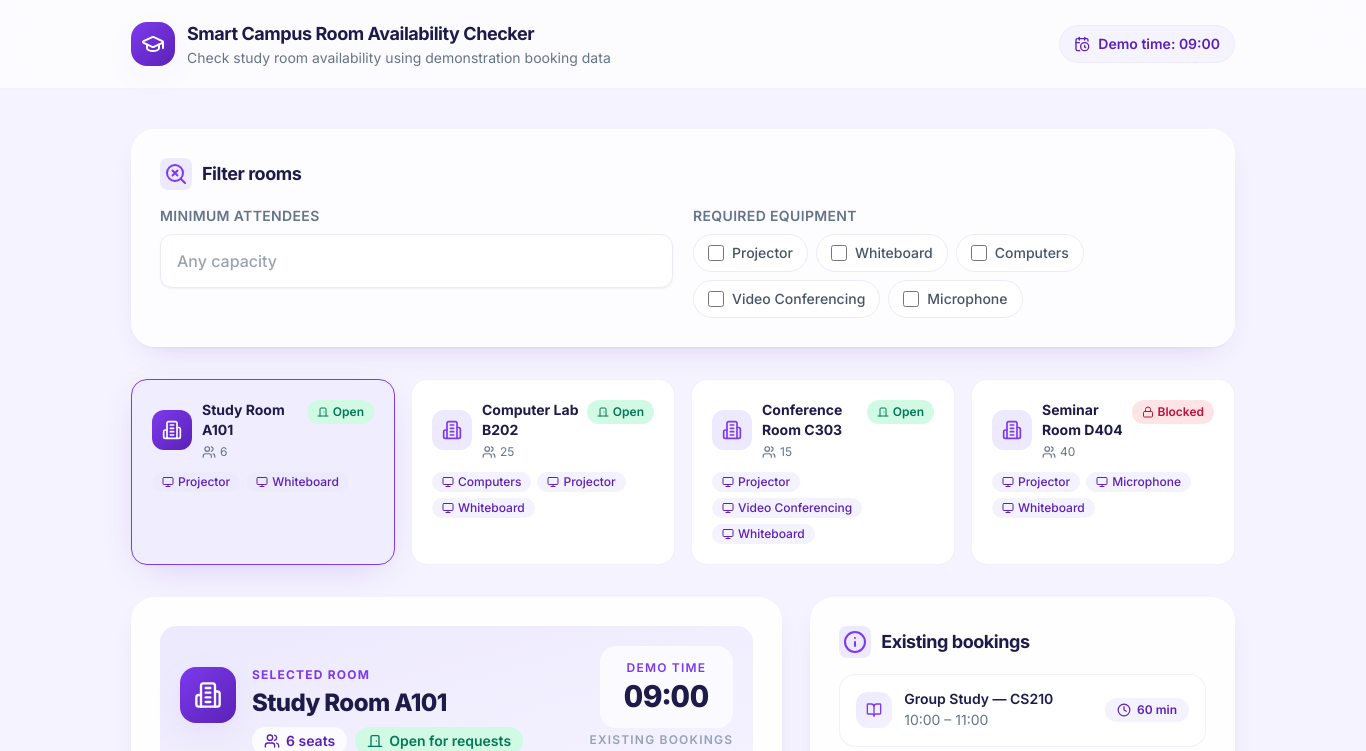
Test: F1 — capacity filtering via UI › filters out rooms below the entered capacity
This screenshot has width=1366, height=751.
Type "15" into the number field labelled "Minimum attendees" at (416, 261), box [160,234,673,288]
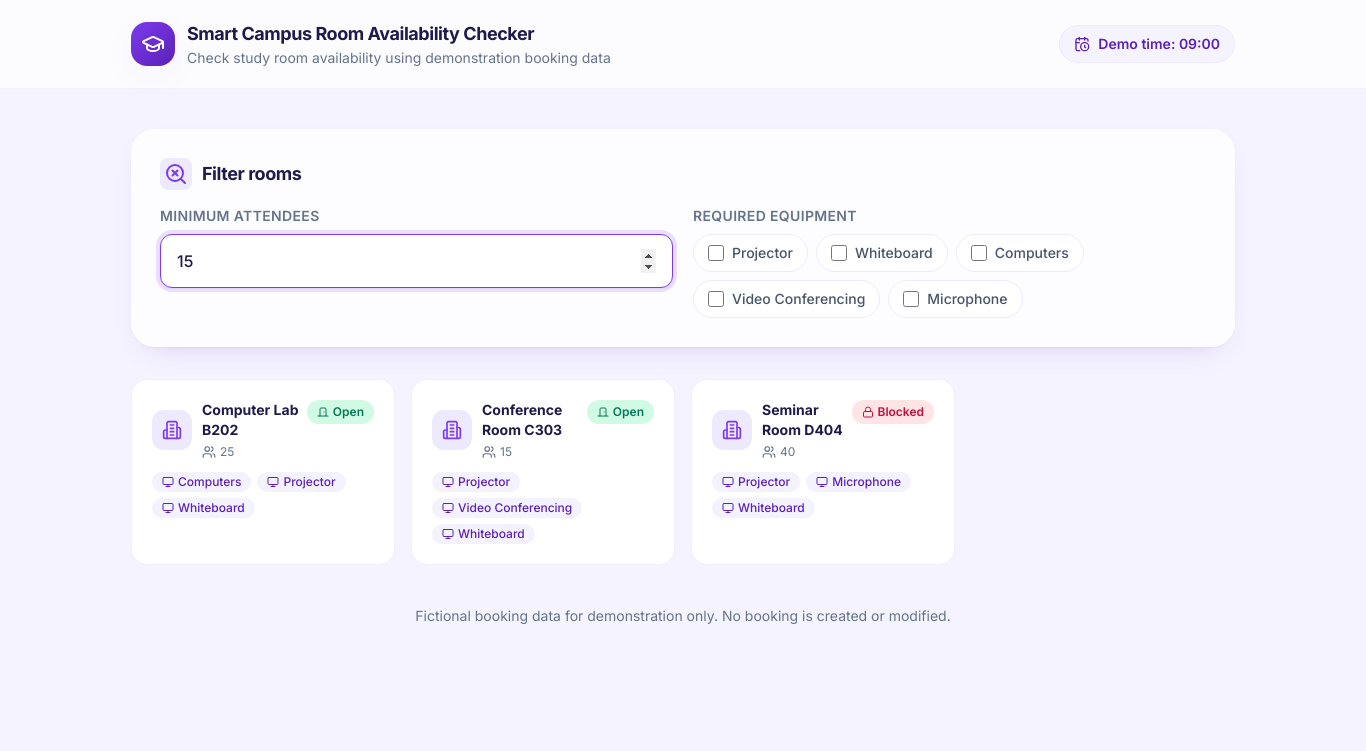
Expected: the button "Computer Lab B202 25 Open Computers Projector Whiteboard" is shown, [131,379,395,565]
Expected: the button "Study Room A101" is gone
